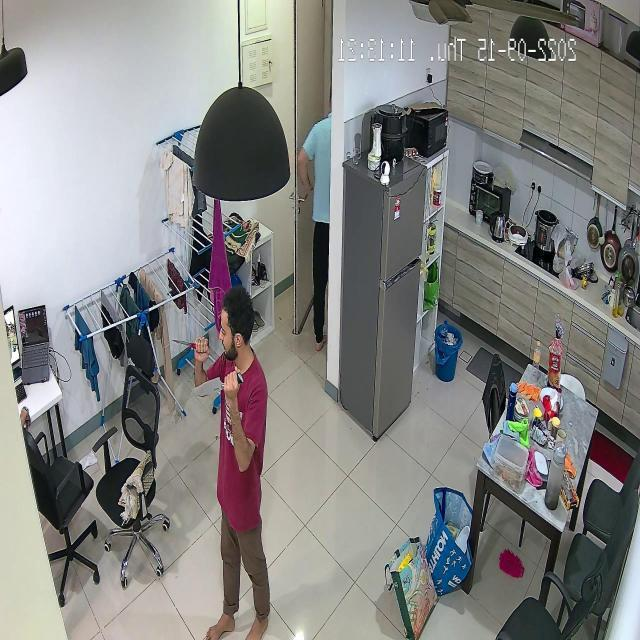Knife: (178, 368, 247, 403), (165, 328, 207, 354)
